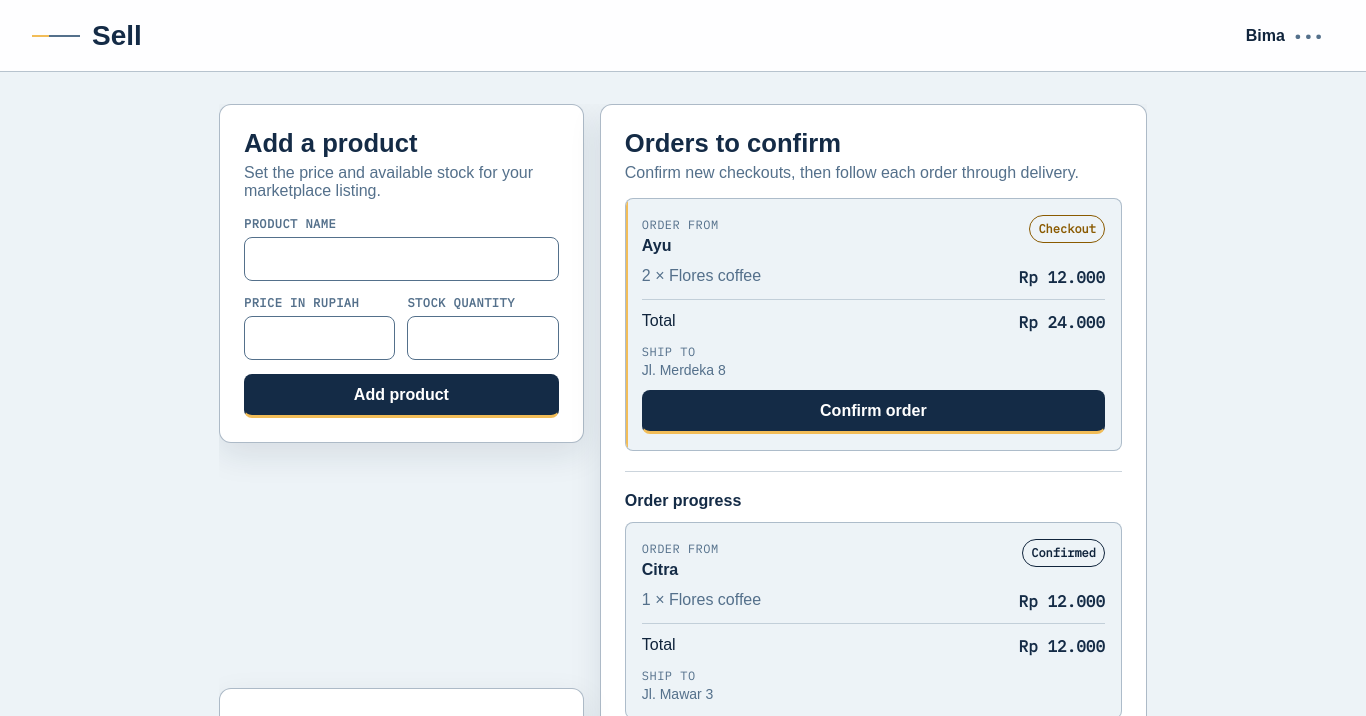
Test case: Seller › reports transport failures inline without clearing visible products or orders
This screenshot has width=1366, height=716.
Type "Flores cocoa" into the field labelled "Product name" at coordinates (401, 259), box [244, 237, 559, 281]
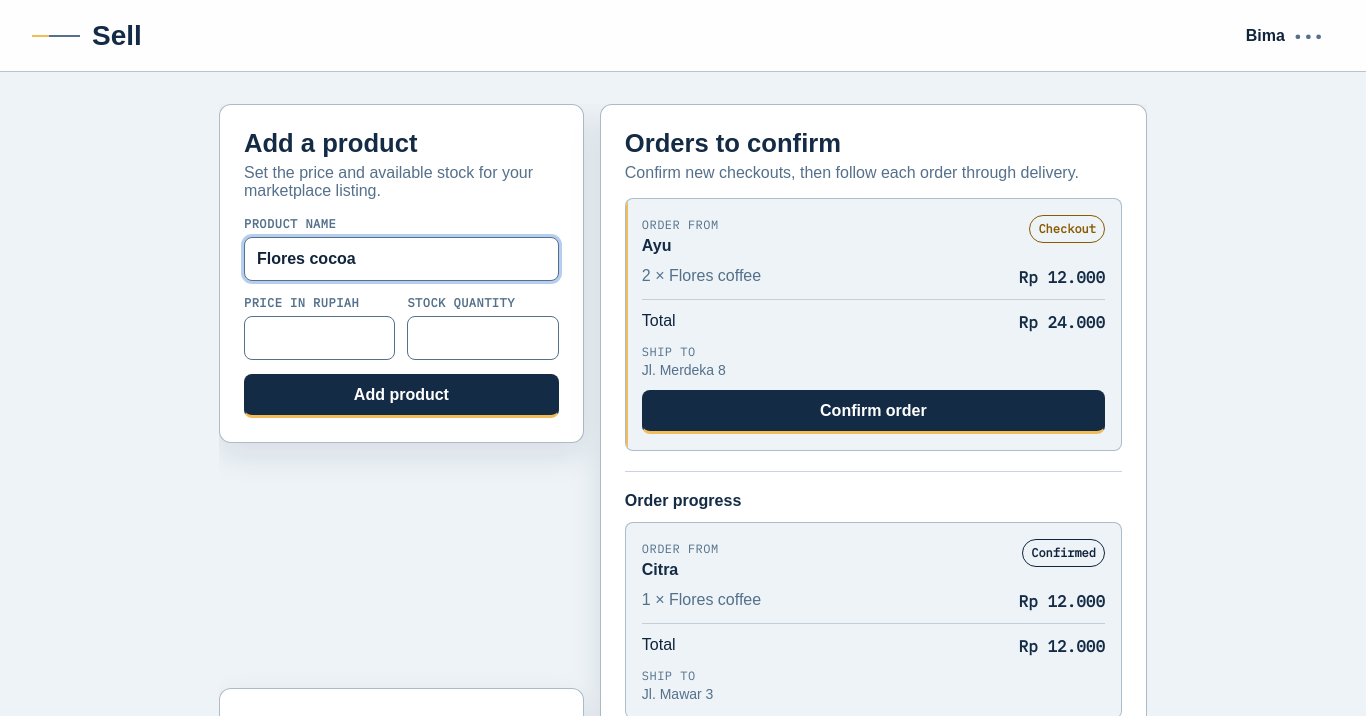
Type "18000" into the number field labelled "Price in rupiah" at coordinates (320, 338), box [244, 316, 395, 360]
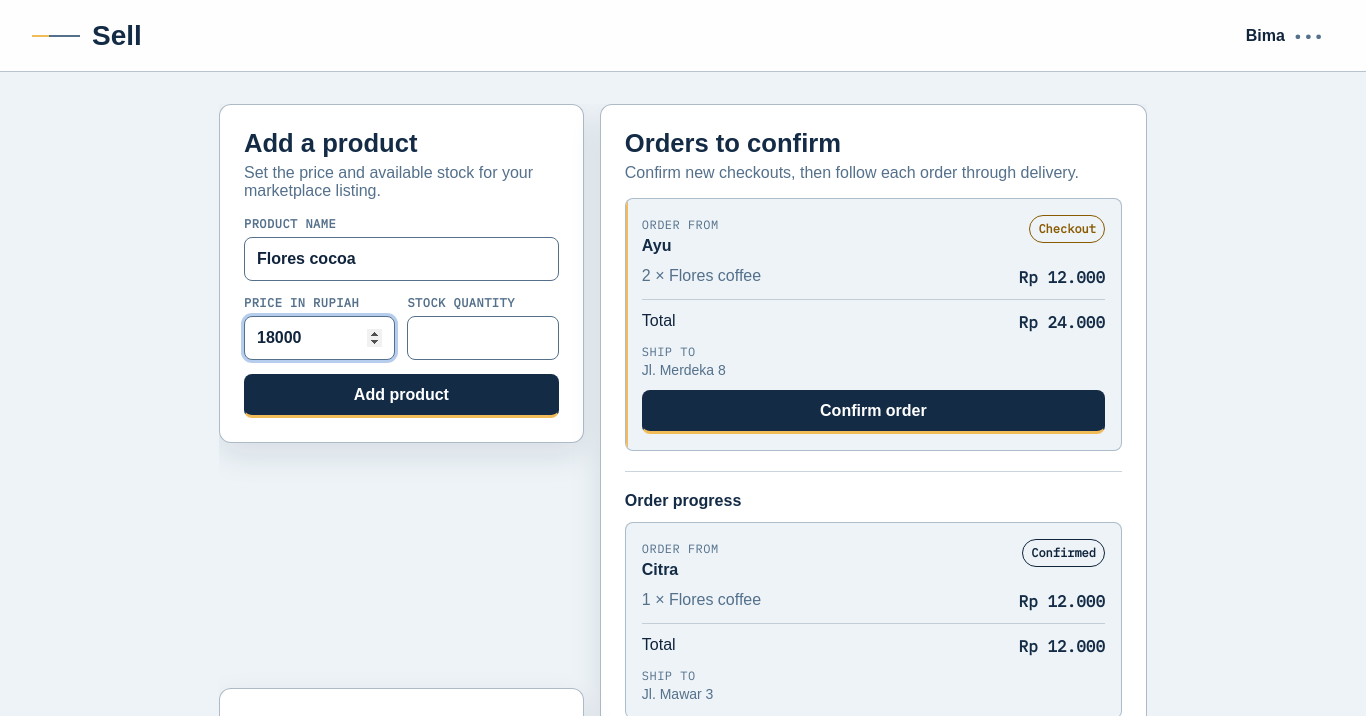
Click the button "Add product" at coordinates (401, 396), box [244, 374, 559, 418]
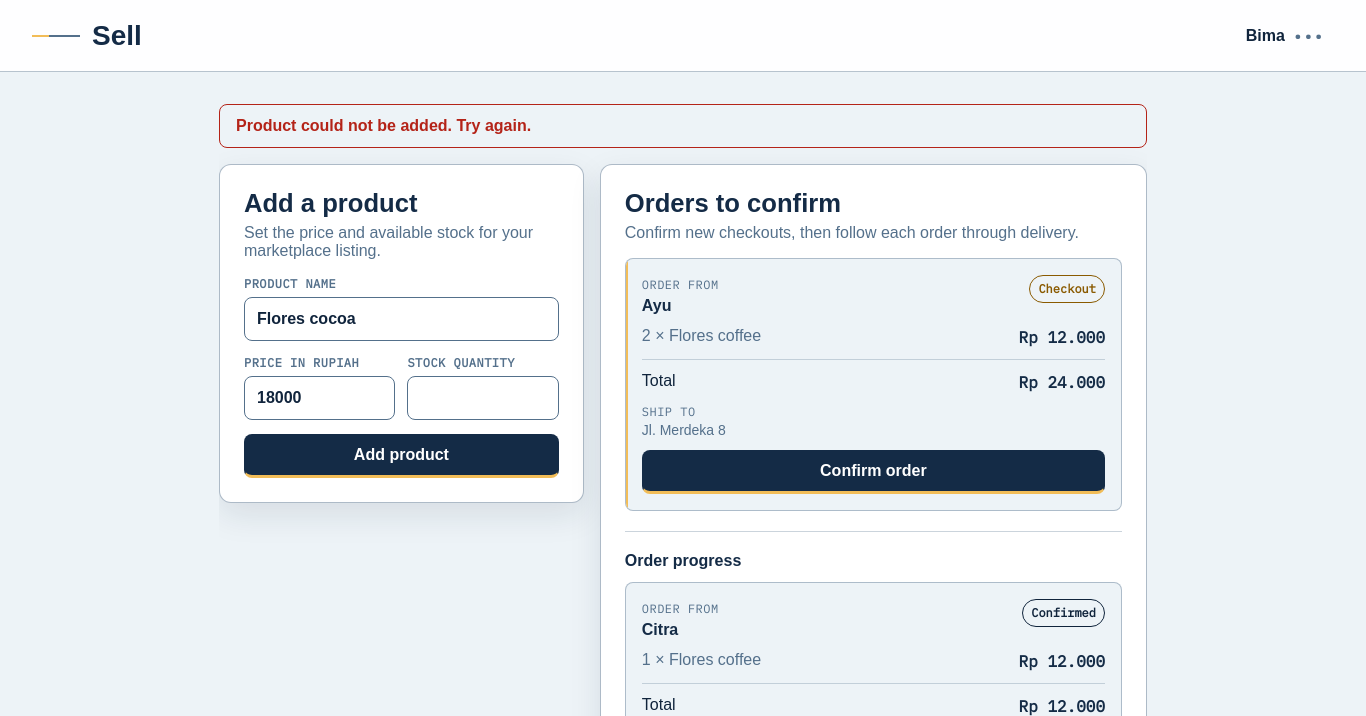
Expected: the heading "Ayu" is shown, [642, 297, 671, 314]
Now the message reads "Product could not be added. Try again.", box [236, 117, 531, 134]
Click the button "Confirm order" at coordinates (873, 472), box [642, 450, 1105, 494]
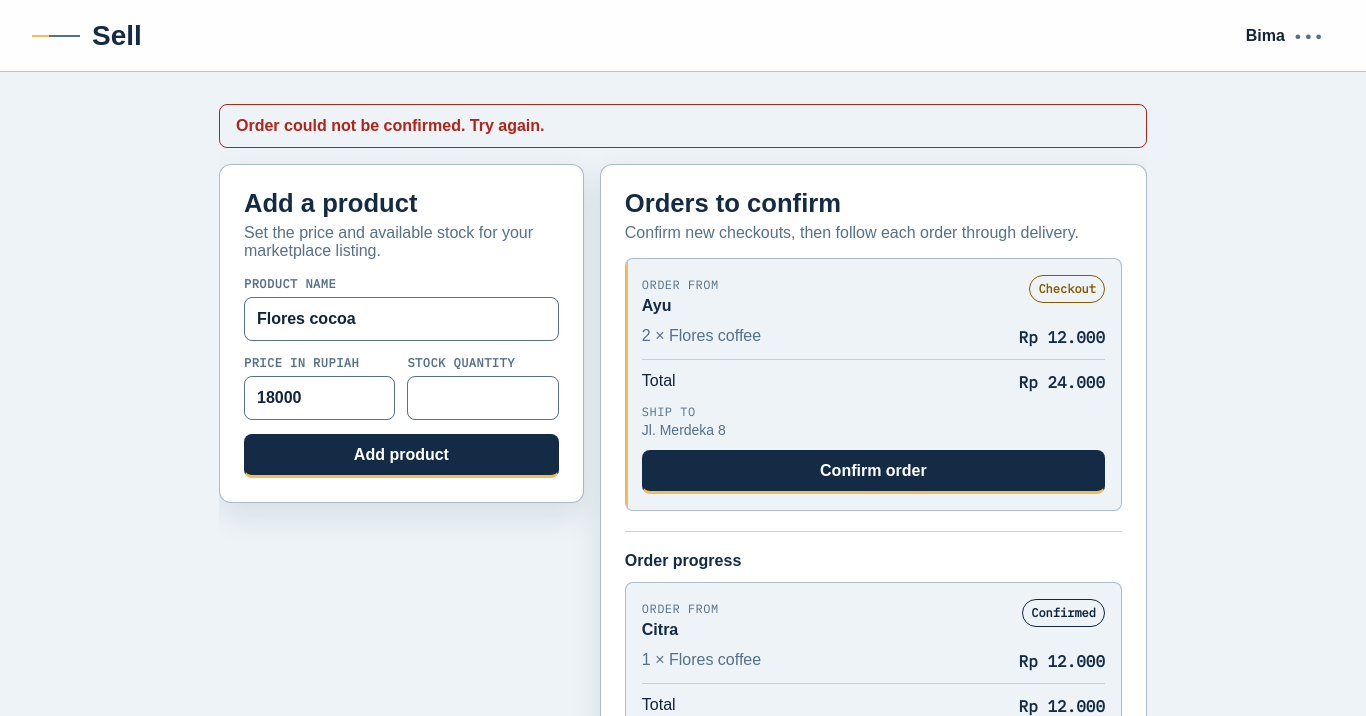
Expected: the heading "Ayu" is shown, [642, 297, 671, 314]
Now the message reads "Order could not be confirmed. Try again.", box [236, 117, 544, 134]
